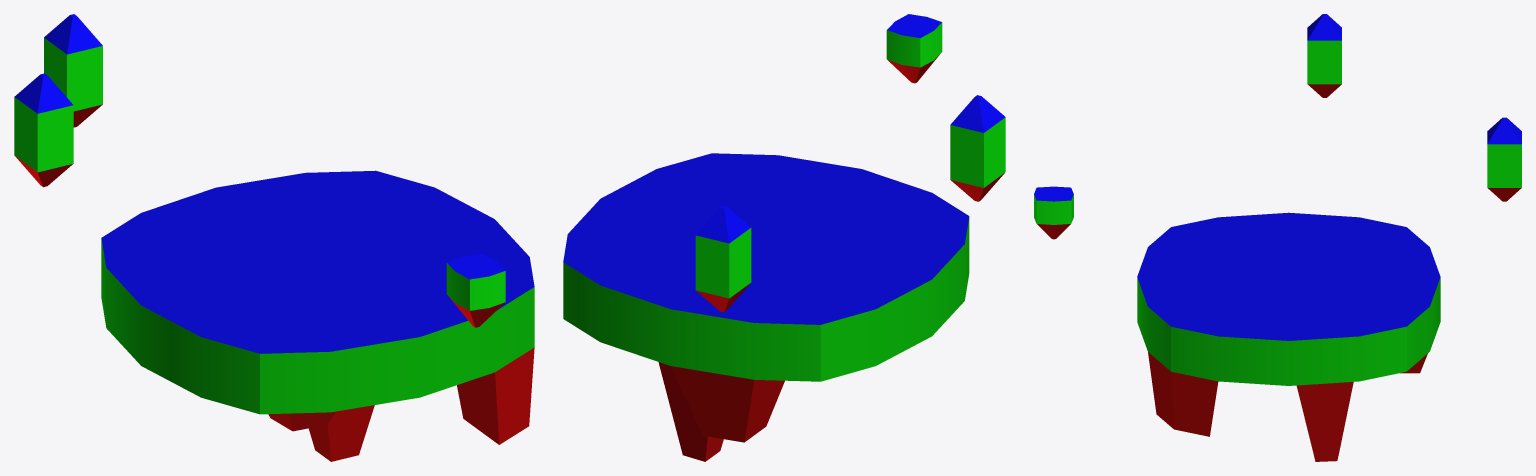
The model's file is Obelisk.fbx.
3 views of the same model, side by side, from view 1: azimuth 30°, elevation 25°; view 2: azimuth 150°, elevation 25°; view 3: azimuth 270°, elevation 25° (orthographic). The views are drawn at different scales.
Visible parts, largest first — view 1: Main_Obelisk, Floating_Rock, Floating_Rock2, Mini_Obelisk; view 2: Main_Obelisk, Floating_Rock2, Floating_Rock, Mini_Obelisk; view 3: Main_Obelisk, Floating_Rock2, Floating_Rock, Mini_Obelisk.
Boxes of the visible parts, bbox=[...] form: Main_Obelisk: bbox=[101, 170, 534, 461]; Floating_Rock: bbox=[14, 73, 73, 187]; Floating_Rock2: bbox=[44, 14, 102, 127]; Mini_Obelisk: bbox=[446, 253, 505, 327]; Main_Obelisk: bbox=[563, 153, 969, 461]; Floating_Rock2: bbox=[695, 205, 751, 312]; Floating_Rock: bbox=[950, 95, 1005, 201]; Mini_Obelisk: bbox=[886, 14, 942, 83]; Main_Obelisk: bbox=[1137, 212, 1440, 461]; Floating_Rock2: bbox=[1487, 117, 1521, 201]; Floating_Rock: bbox=[1307, 14, 1341, 97]; Mini_Obelisk: bbox=[1034, 186, 1073, 239].
Bounding box in the file's own units: 138 × 133 × 176.
